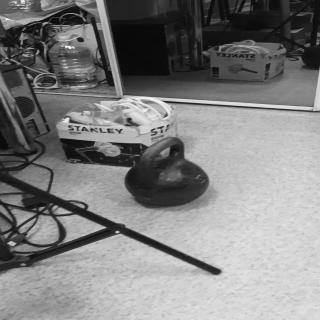girya: (125, 138, 212, 209)
